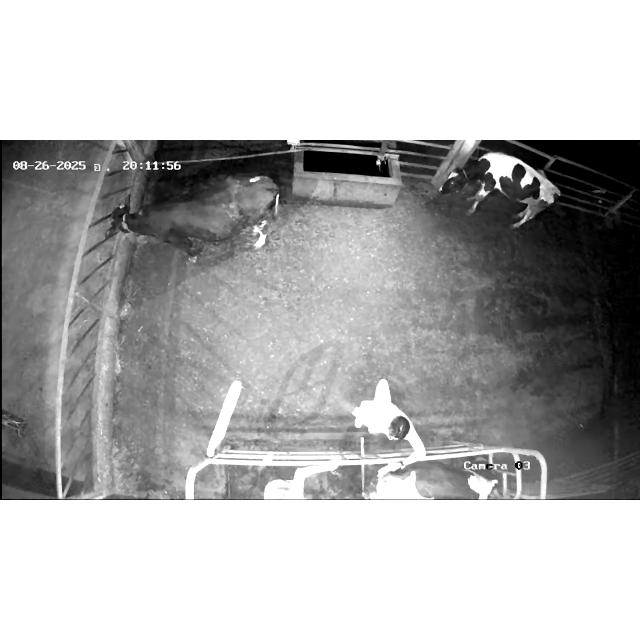stand: (434, 146, 570, 240)
